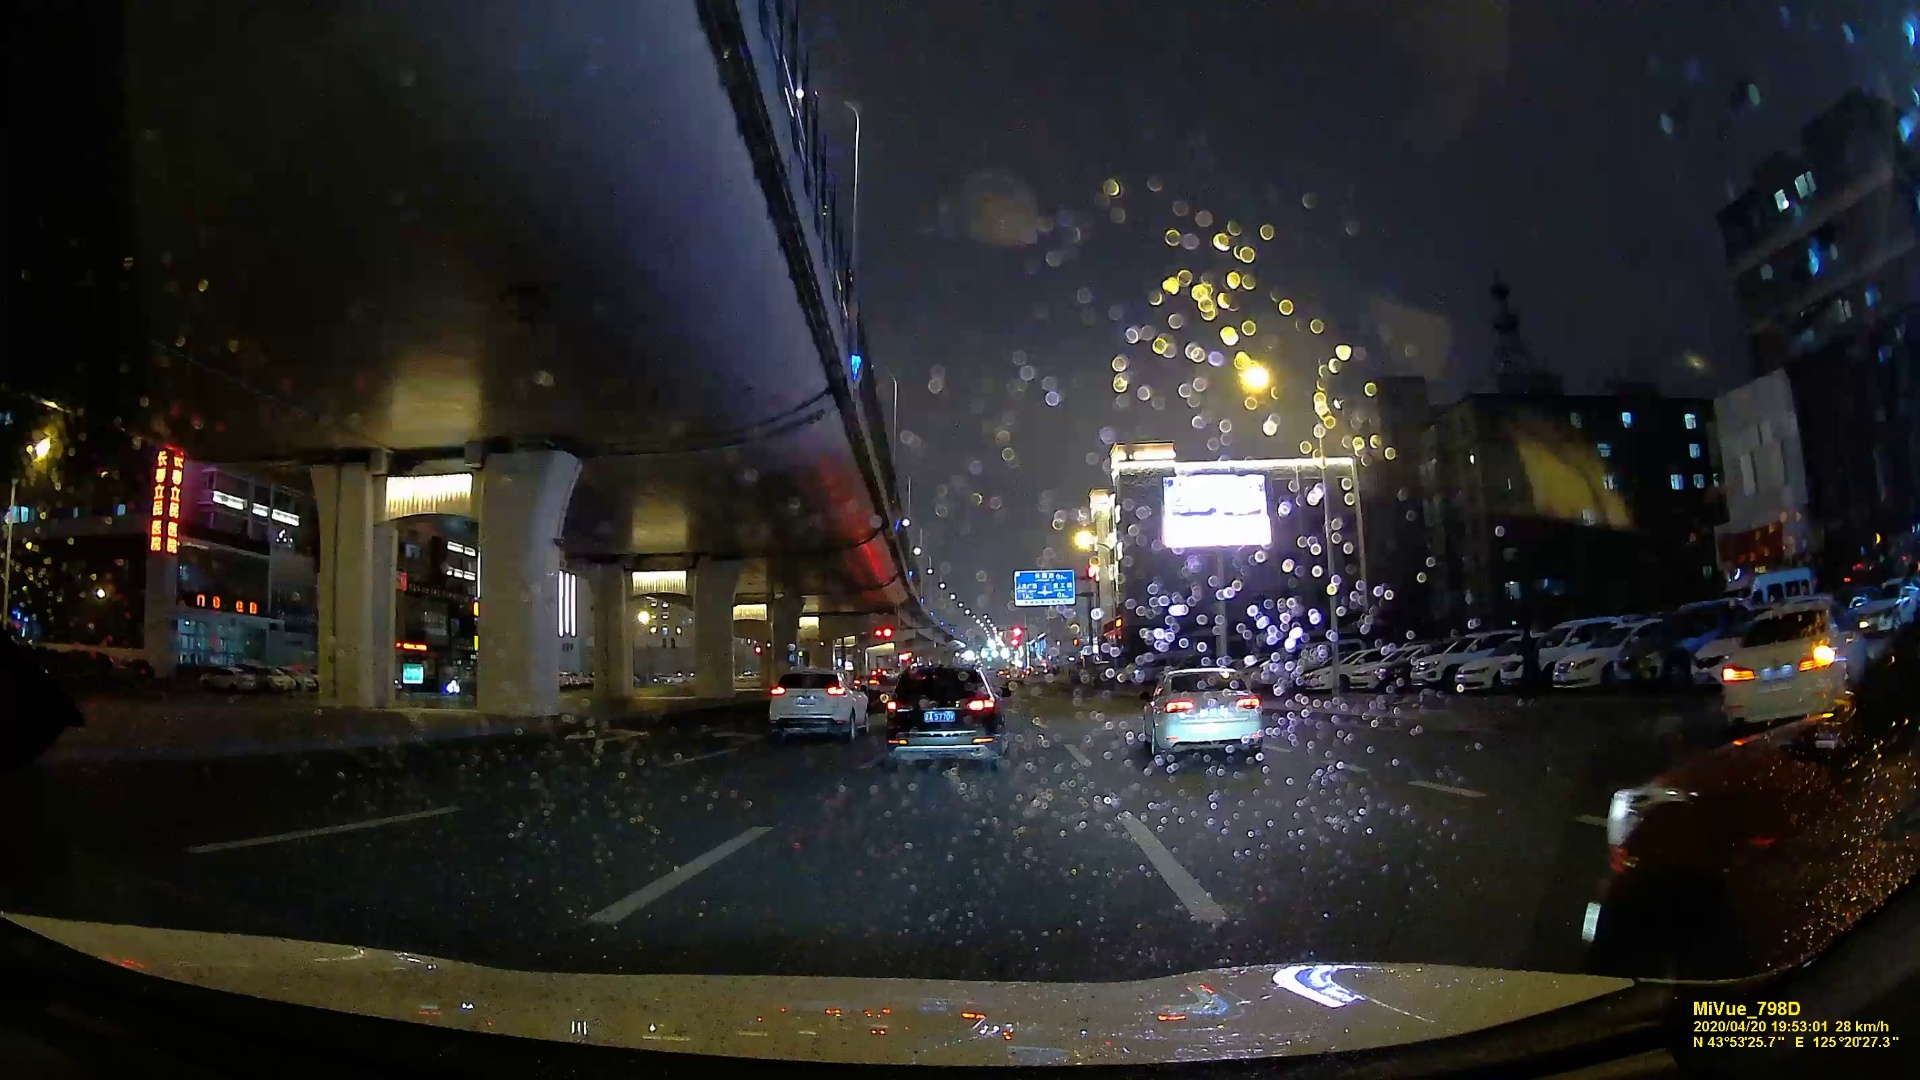traffic_sign: (1013, 568, 1073, 605)
vehicle: (1720, 597, 1847, 725), (884, 657, 1006, 771), (1145, 667, 1266, 758), (767, 669, 872, 740)
